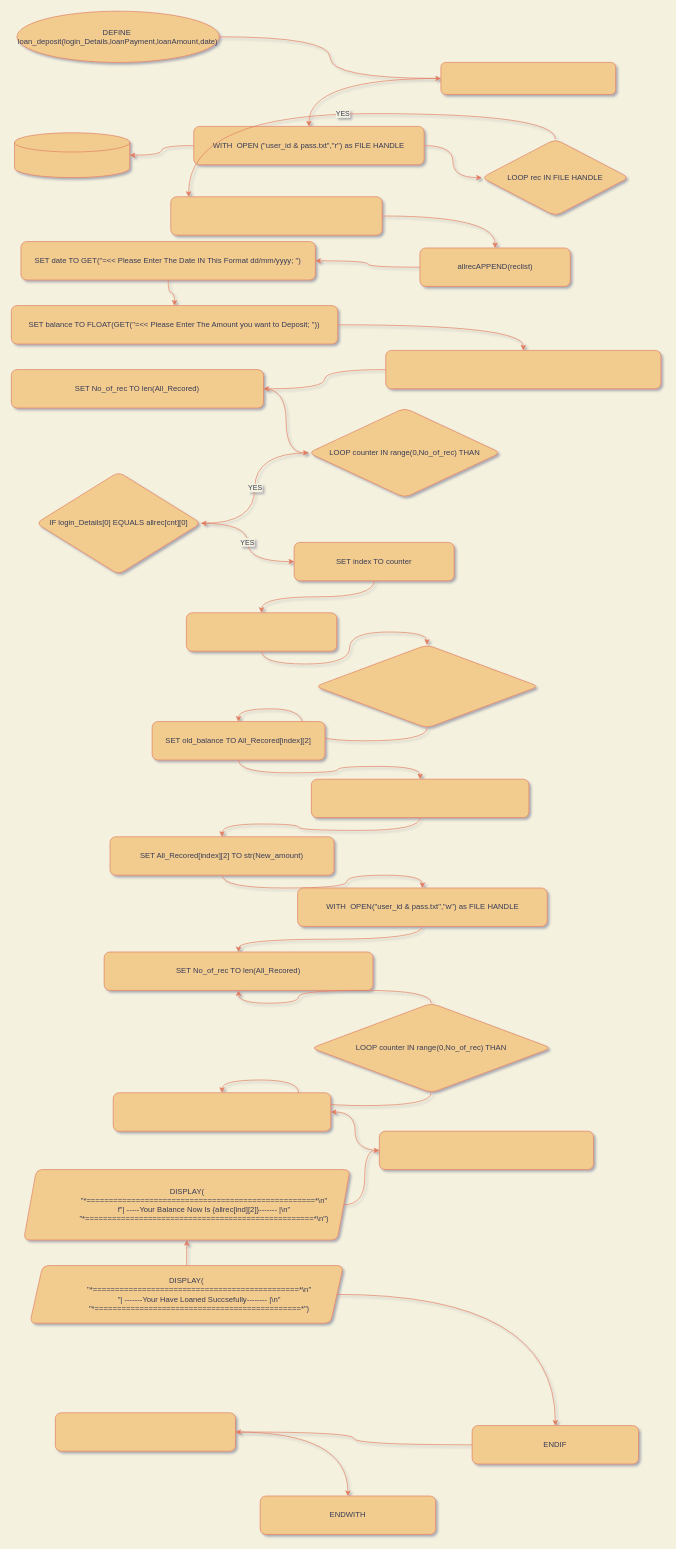
Some shapes in this 676 by 1549 pixel diagram are drawn without their labels. Here are the shapes that lost their labels. From the top down, the box of each, then its label:
(440, 62, 616, 94): SET All_Recored TO Empty list
(14, 132, 130, 178): servcie storage
(170, 196, 382, 235): SET reclist TO rec.strip().split(";")
(385, 350, 661, 389): SET index TO -1
(186, 612, 337, 651): break
(315, 644, 539, 728): IF balance LESS THAN float(All_Recored[index][2]) THAN
(311, 779, 529, 818): SET New_amount TO float(old_balance) - balance
(113, 1092, 331, 1131): SET rec TO ";"JOIN(allrec[cnt])+"\n"
(379, 1131, 594, 1170): file handle.write(rec)
(55, 1412, 235, 1451): ENDLOOP
